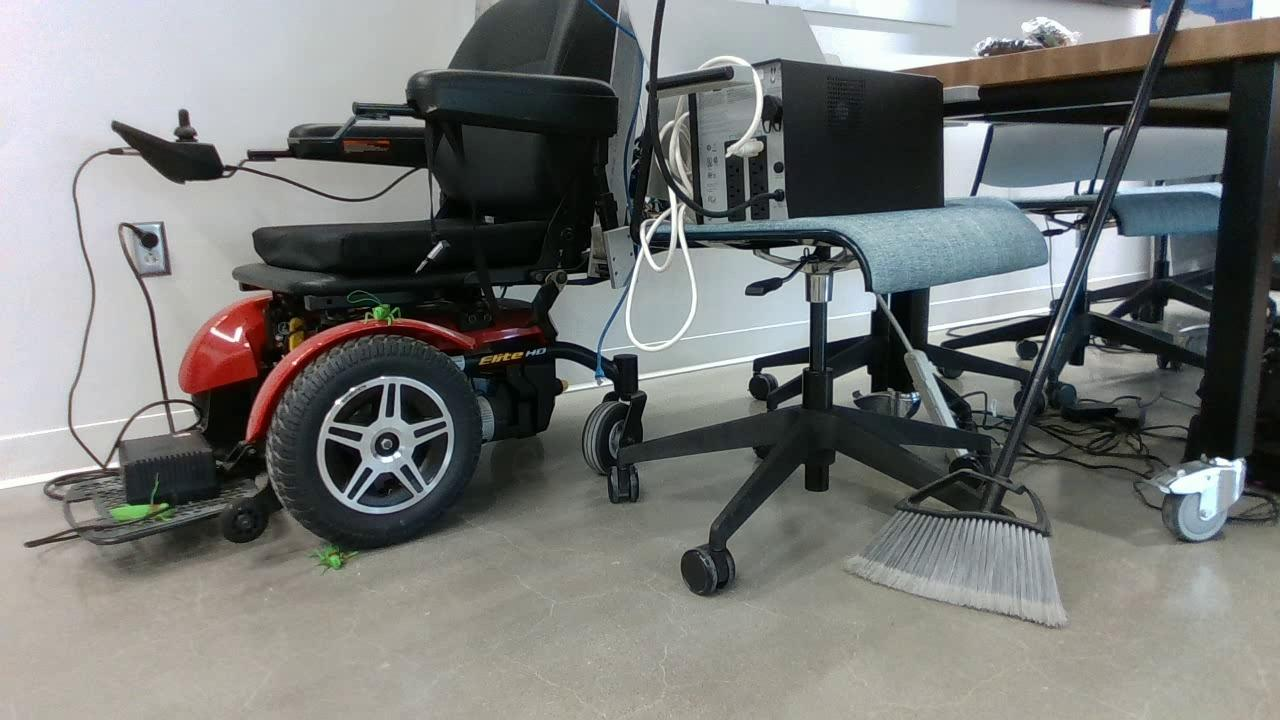grasshopper: (106, 500, 174, 528), (310, 540, 354, 582), (354, 302, 404, 327)
